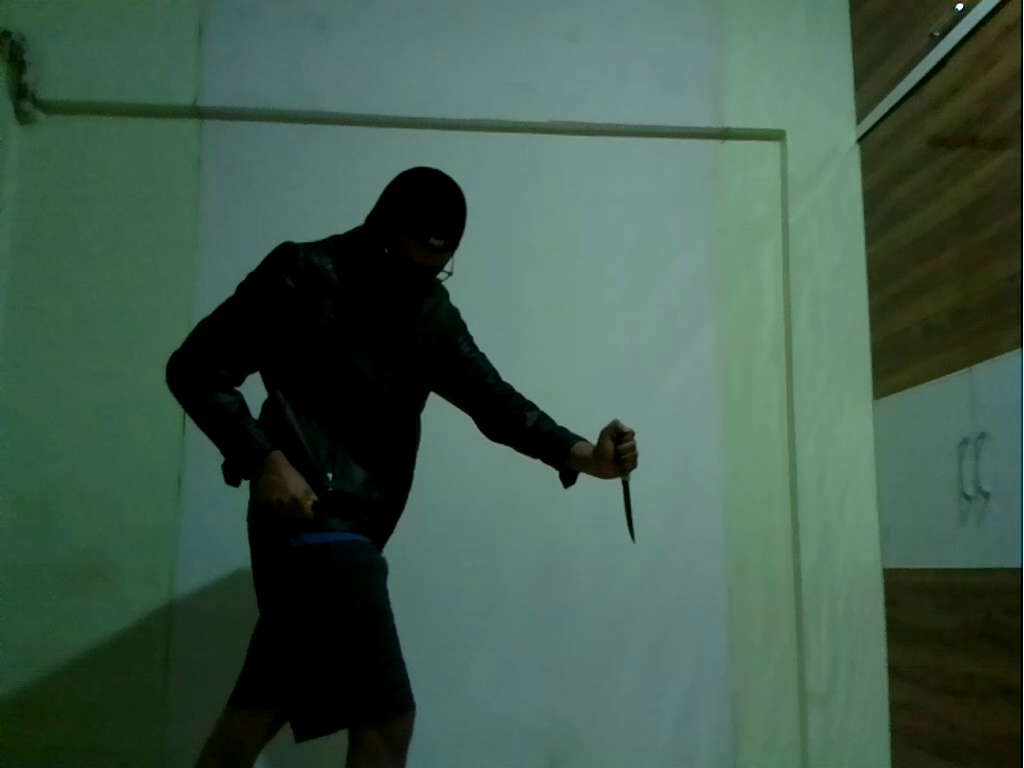knife: (617, 468, 640, 548)
